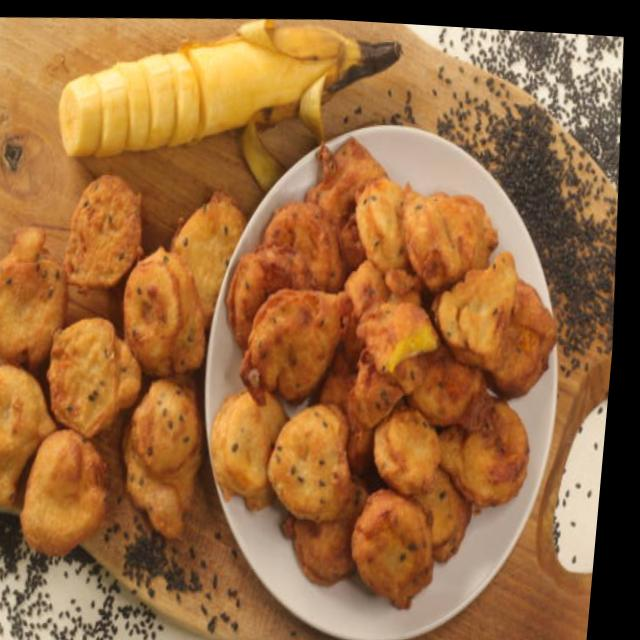BANANA: (54, 20, 404, 159)
BONDA: (209, 139, 556, 602), (0, 170, 247, 559)
